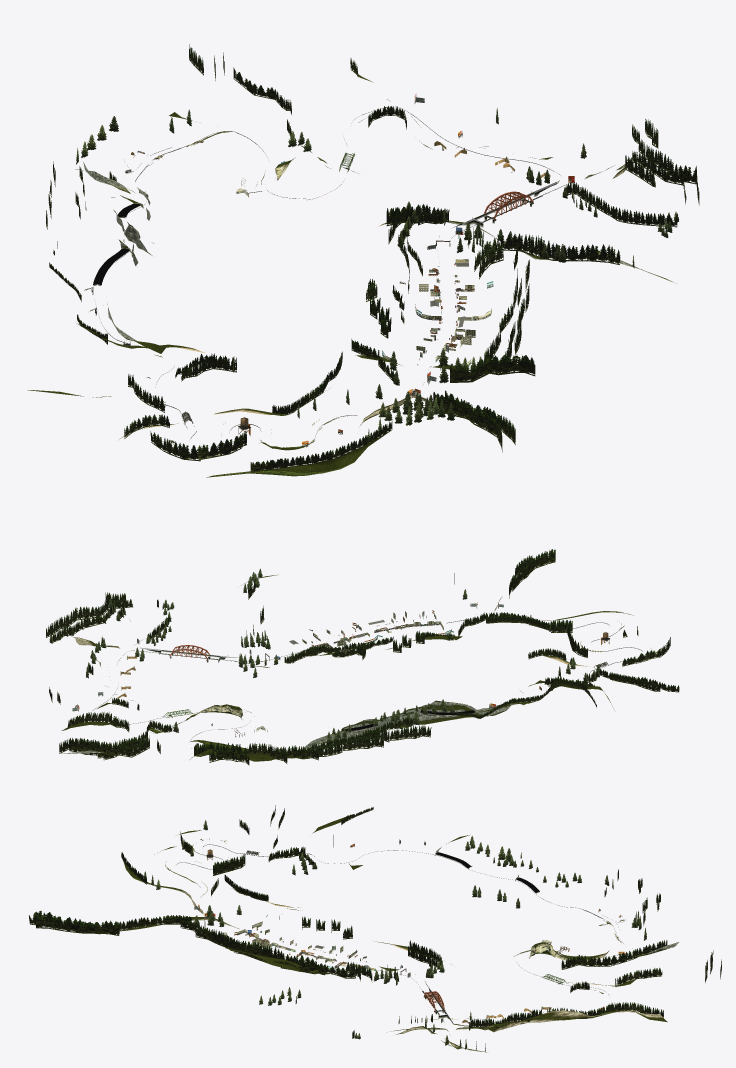
Rendered from track-US_C3_V1.glb.
The picture shows the model from 3 angles, top to bottom: view 1: azimuth 30°, elevation 25°; view 2: azimuth 150°, elevation 25°; view 3: azimuth 270°, elevation 25°; orthographic projection. The views are drawn at different scales.
Visible parts, largest first — view 1: US_C3_V1; view 2: US_C3_V1; view 3: US_C3_V1.
Boxes of the visible parts, left/top/right/bottom form: US_C3_V1: left=27, top=44, right=699, bottom=477; US_C3_V1: left=46, top=549, right=679, bottom=765; US_C3_V1: left=28, top=805, right=721, bottom=1052.
Bounding box in the file's own units: 2263 × 171 × 2667.
107 materials, 107 textured.
